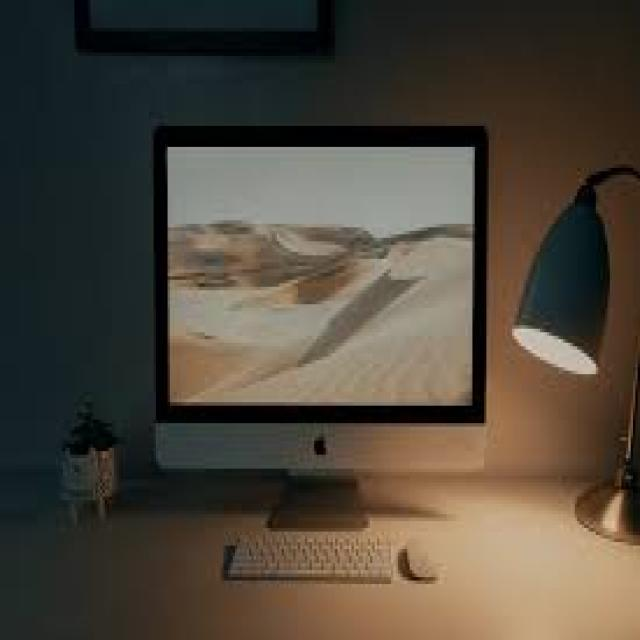komputer: (154, 125, 487, 531)
